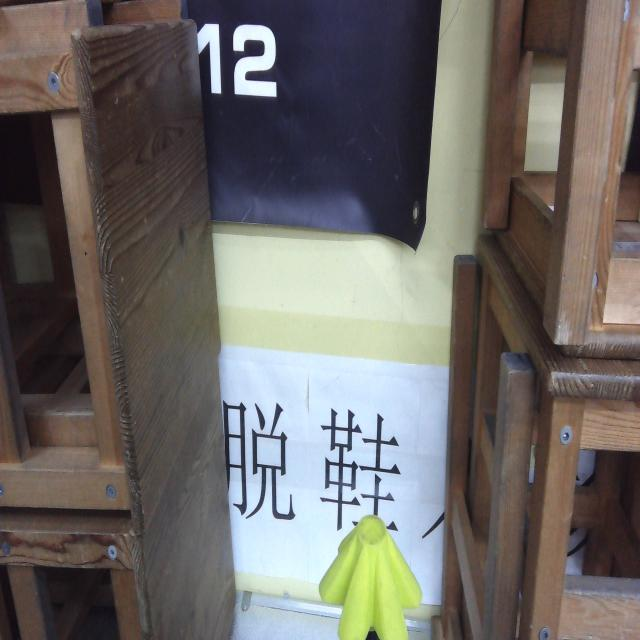Yellow-Stake-Head: (319, 514, 423, 640)
